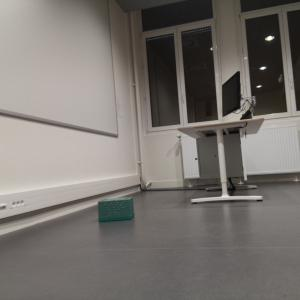small: (93, 195, 136, 227)
